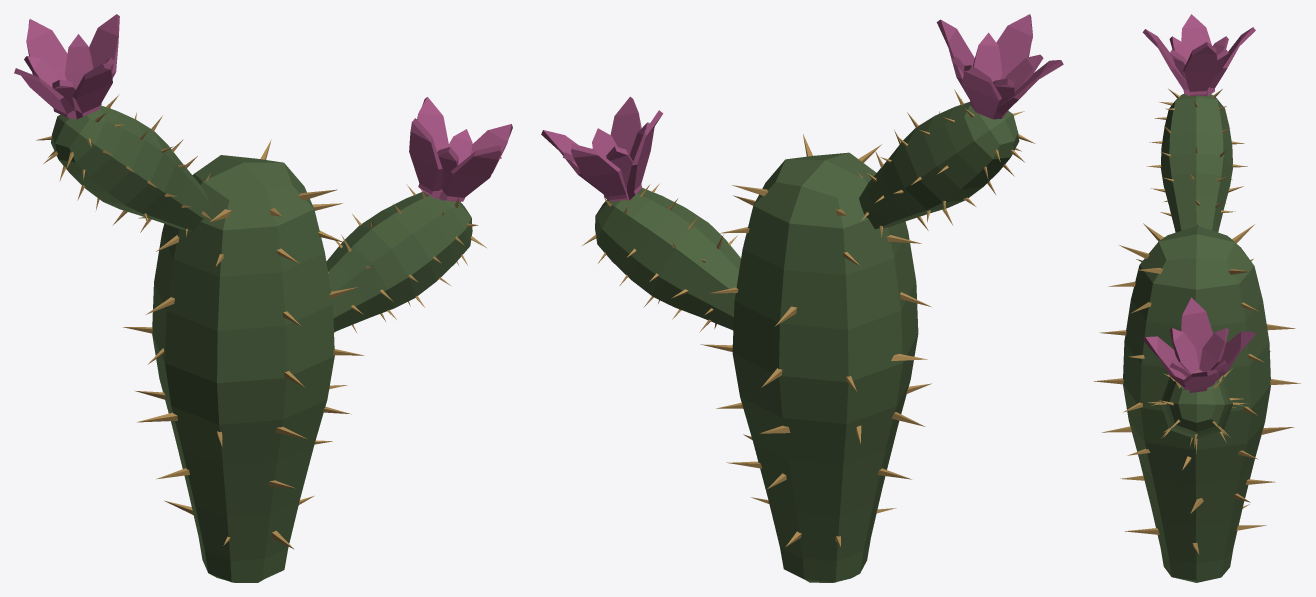
The model's file is Cactus_4.glb.
The picture shows the model from 3 angles, left to right: view 1: azimuth 30°, elevation 25°; view 2: azimuth 150°, elevation 25°; view 3: azimuth 270°, elevation 25°; orthographic projection. The views are drawn at different scales.
Parts seen in each view (by area): view 1: DarkGreen2, Pink, LightOrange; view 2: DarkGreen2, Pink, LightOrange; view 3: DarkGreen2, Pink, LightOrange.
Boxes of the visible parts, left/top/right/bottom form: DarkGreen2: left=51, top=105, right=472, bottom=582; Pink: left=14, top=14, right=512, bottom=201; LightOrange: left=36, top=94, right=487, bottom=549; DarkGreen2: left=595, top=102, right=1019, bottom=582; Pink: left=541, top=14, right=1063, bottom=201; LightOrange: left=582, top=89, right=1035, bottom=547; DarkGreen2: left=1123, top=94, right=1270, bottom=582; Pink: left=1142, top=14, right=1255, bottom=392; LightOrange: left=1094, top=89, right=1300, bottom=554.
Bounding box in the file's own units: 1.31 × 1.43 × 0.5629.
